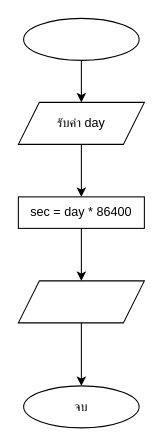
The diagram is 163 pixels wide and 446 high, and some of its shapes have lost their labels. Each missing label, with the centre of its shape:
เริ่มต้น: [81,38]
แสดง sec: [80,301]
